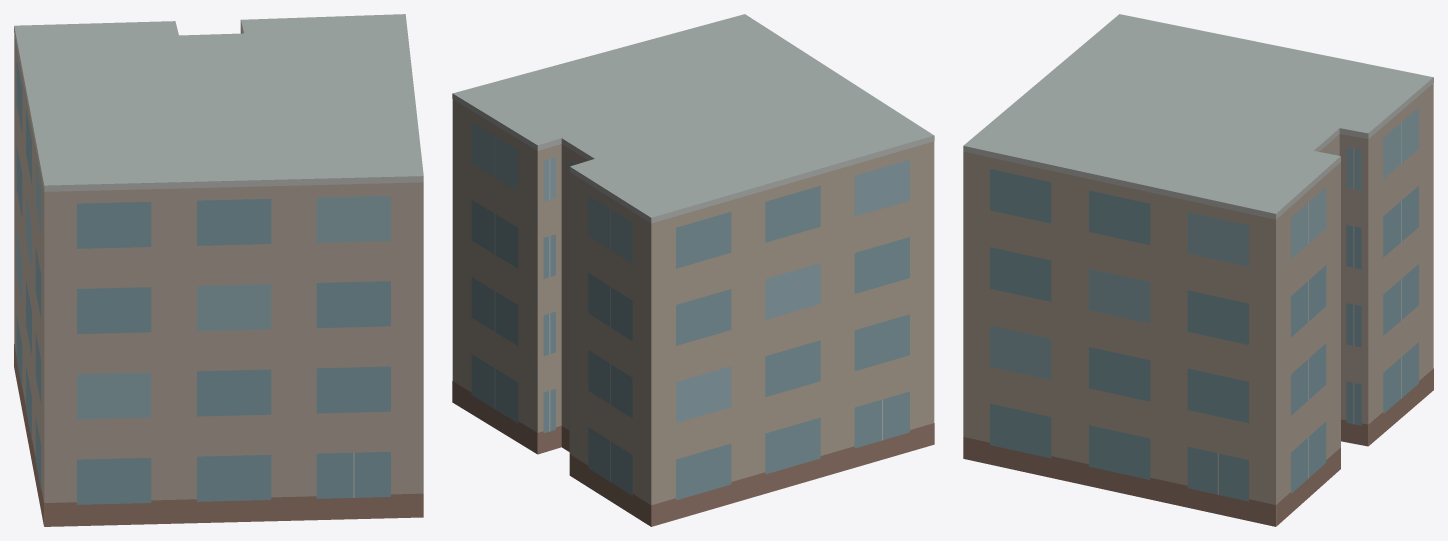
The model's file is survey-upis-32731111.glb.
3 renders of one model, left to right at view 1: azimuth 30°, elevation 25°; view 2: azimuth 150°, elevation 25°; view 3: azimuth 270°, elevation 25°, orthographic. The views are drawn at different scales.
Visible parts, largest first — view 1: survey-upis-32731111.tmp; view 2: survey-upis-32731111.tmp; view 3: survey-upis-32731111.tmp.
Part boxes in pixels (x1,y1,x2,y2): survey-upis-32731111.tmp: [14, 14, 423, 526]; survey-upis-32731111.tmp: [452, 14, 934, 526]; survey-upis-32731111.tmp: [963, 14, 1433, 526].
Bounding box in the file's own units: 18.11 × 13.21 × 18.01.
